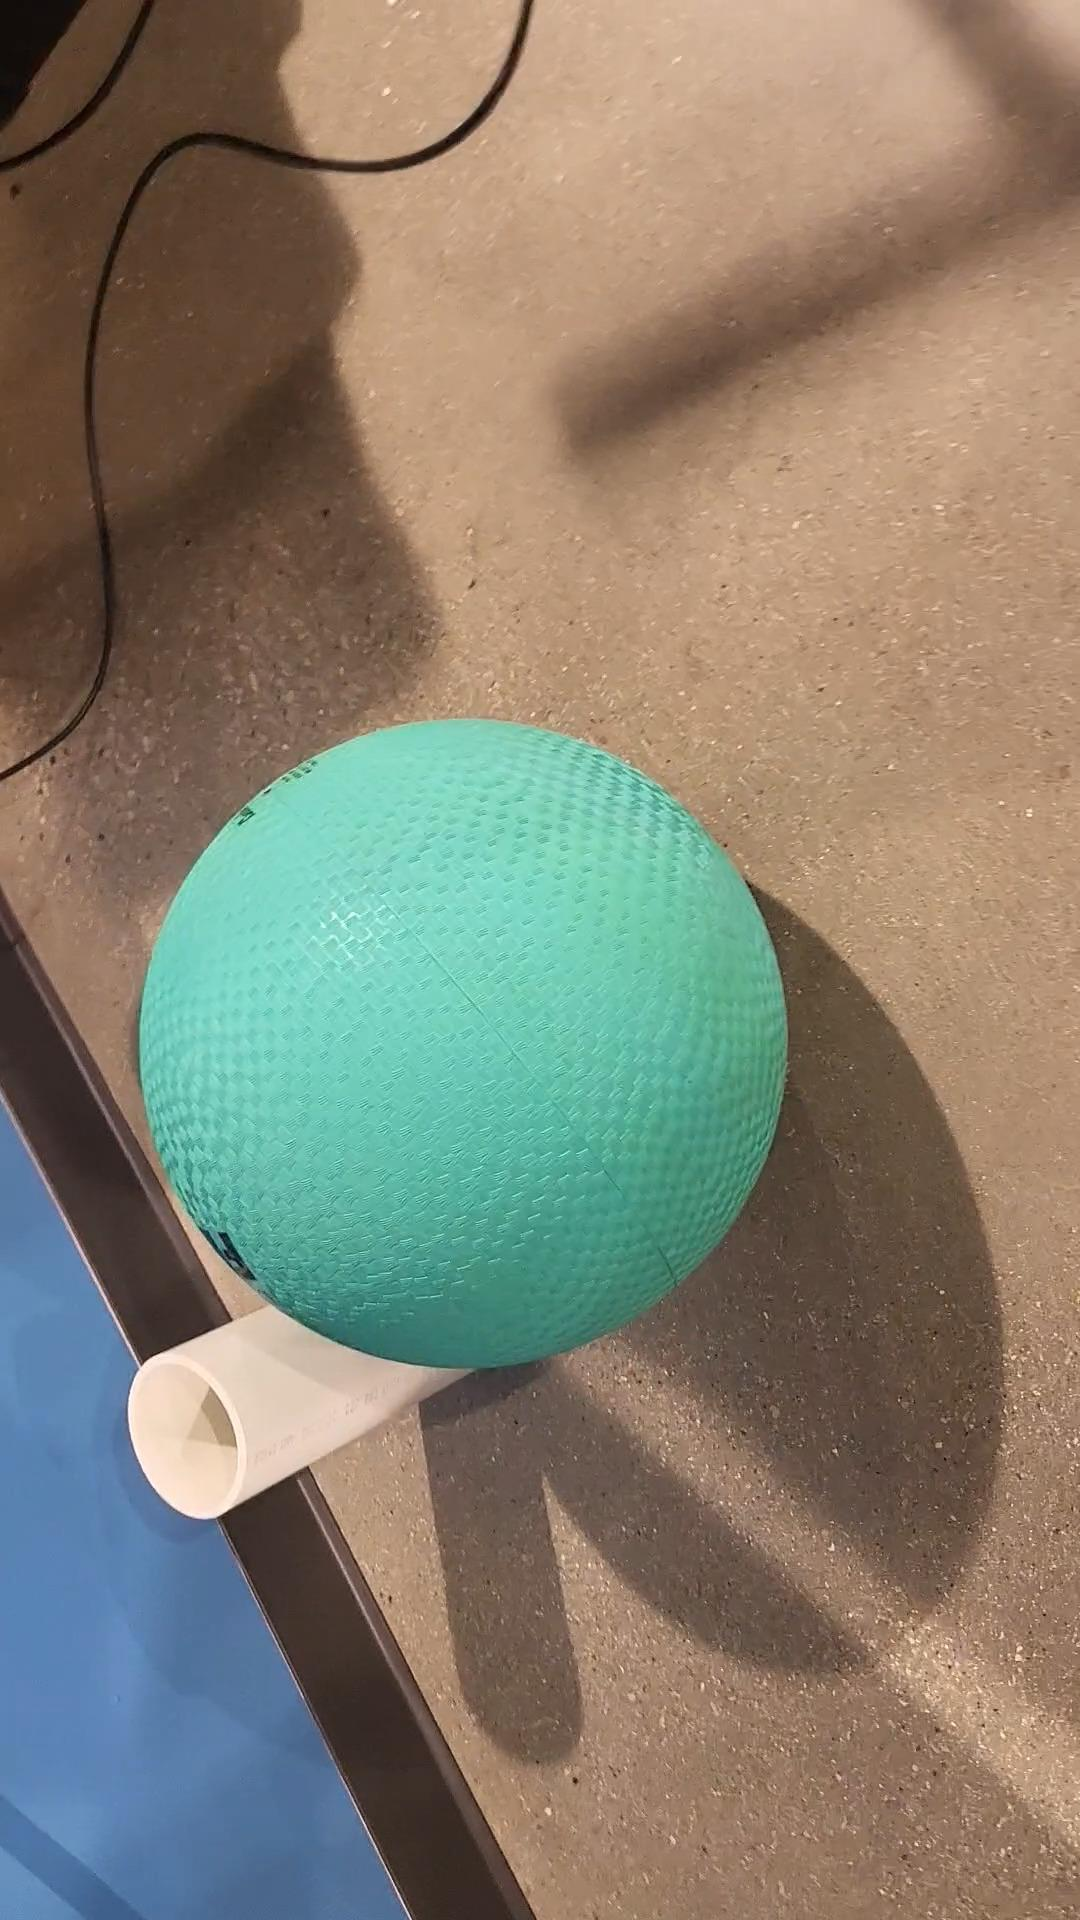algae: (142, 720, 782, 1367)
coral: (132, 1295, 485, 1524)
